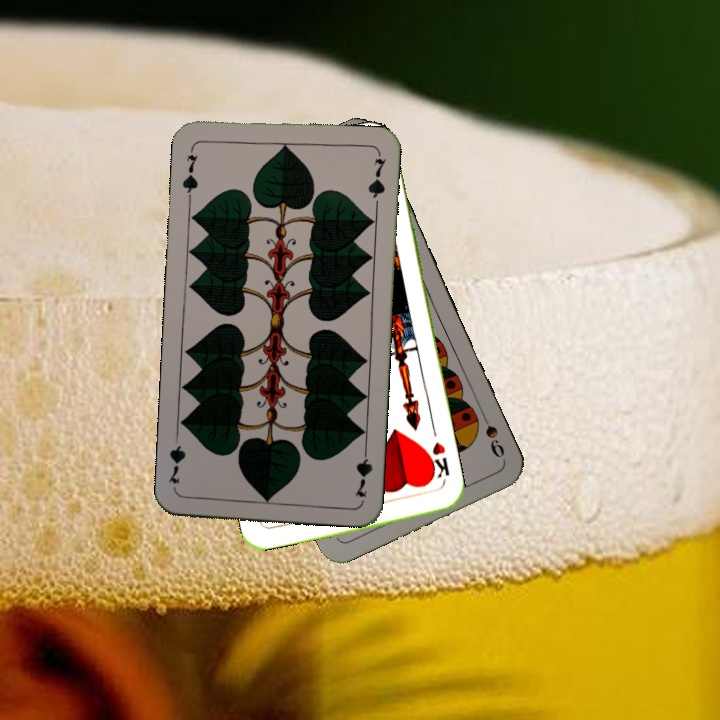G7: (351, 441, 375, 500), (178, 142, 200, 201)
HK: (422, 438, 452, 489)
S9: (475, 406, 507, 461)
